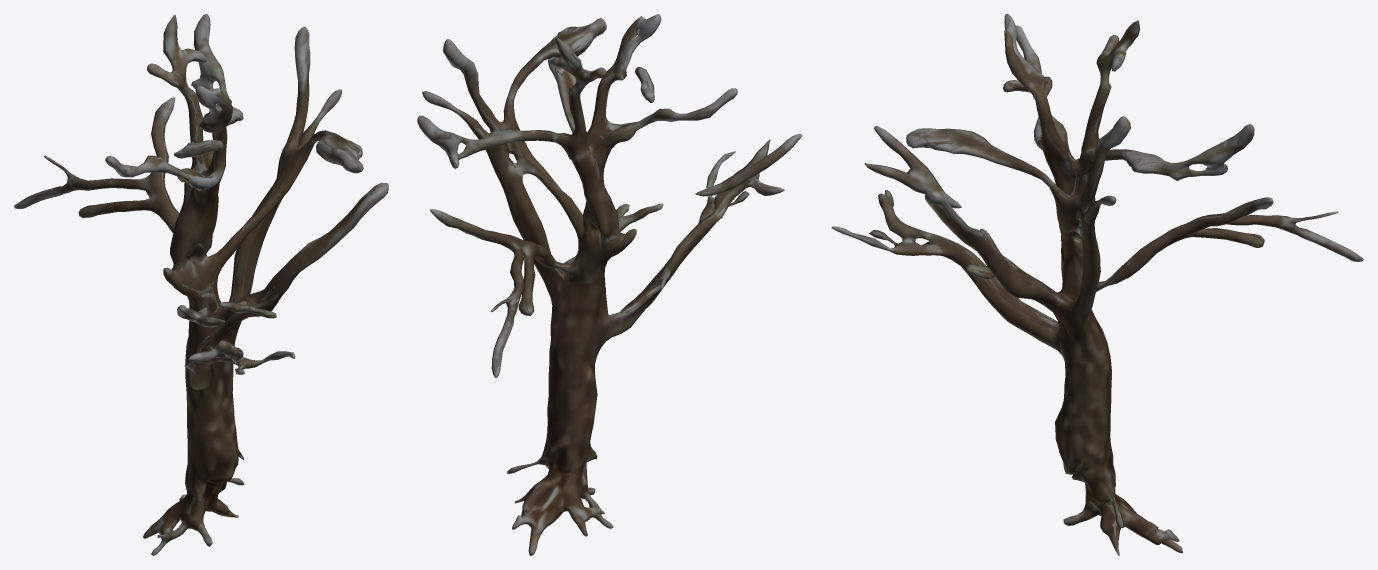
Rendered from 1dcd6010147d_dry_tree_in_the_sha.obj.
3 views of the same model, side by side, from view 1: azimuth 30°, elevation 25°; view 2: azimuth 150°, elevation 25°; view 3: azimuth 270°, elevation 25° (orthographic). The views are drawn at different scales.
Visible parts, largest first — view 1: mesh; view 2: mesh; view 3: mesh.
Boxes of the visible parts, bbox=[...] form: mesh: bbox=[14, 14, 388, 555]; mesh: bbox=[417, 14, 802, 555]; mesh: bbox=[831, 14, 1363, 555].
Size of the model in its own units: 0.5555 by 0.9912 by 0.9026.
Materials: 1 (1 with a texture image).
